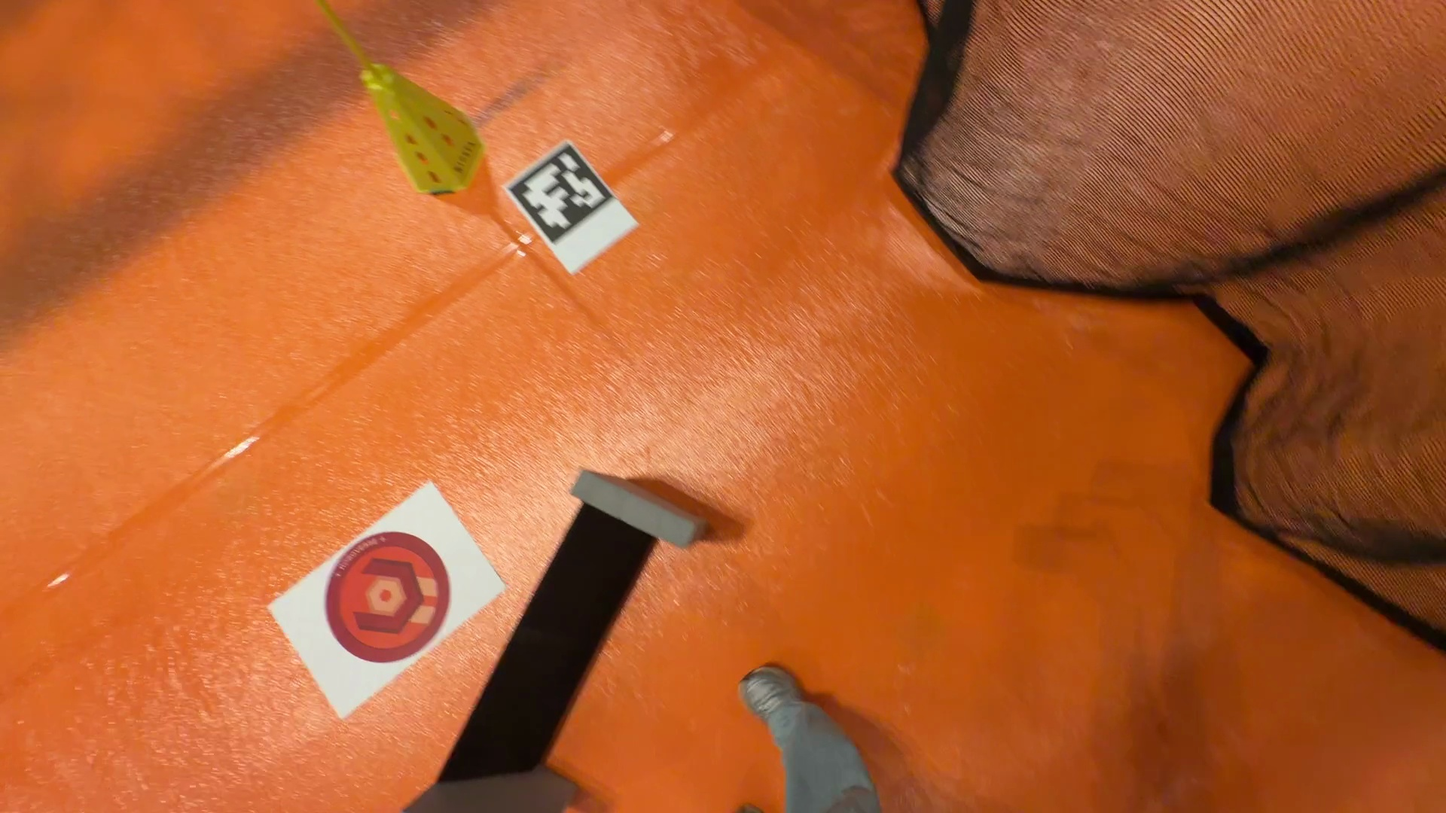landing_pad: (323, 535, 456, 656)
